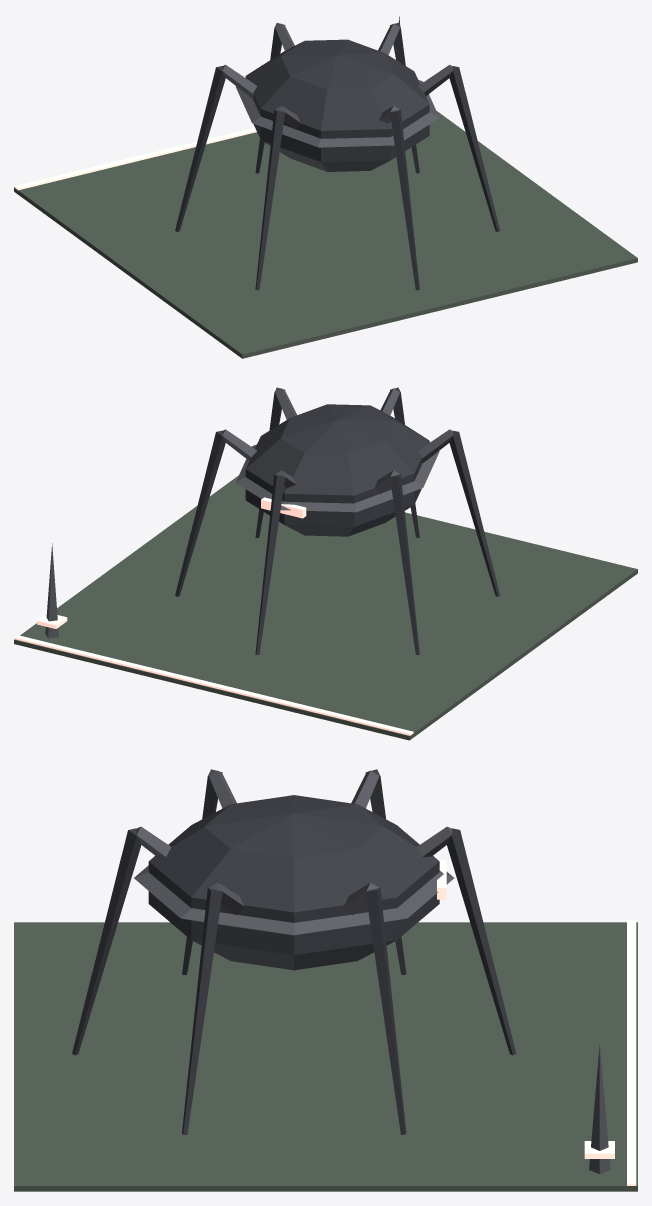
The model's file is zone_low_2_t1.glb.
The picture shows the model from 3 angles, top to bottom: view 1: azimuth 30°, elevation 25°; view 2: azimuth 150°, elevation 25°; view 3: azimuth 270°, elevation 25°; orthographic projection. The views are drawn at different scales.
Visible parts, largest first — view 1: zone_low_2_t1, detail; view 2: zone_low_2_t1, detail; view 3: zone_low_2_t1, detail.
Part boxes in pixels (<box>): zone_low_2_t1: <box>14,23,637,358</box>; detail: <box>14,16,400,190</box>; zone_low_2_t1: <box>14,387,637,740</box>; detail: <box>14,543,413,735</box>; zone_low_2_t1: <box>14,769,637,1191</box>; detail: <box>584,920,636,1185</box>.
Bounding box in the file's own units: 19.6 × 8.54 × 19.6.
